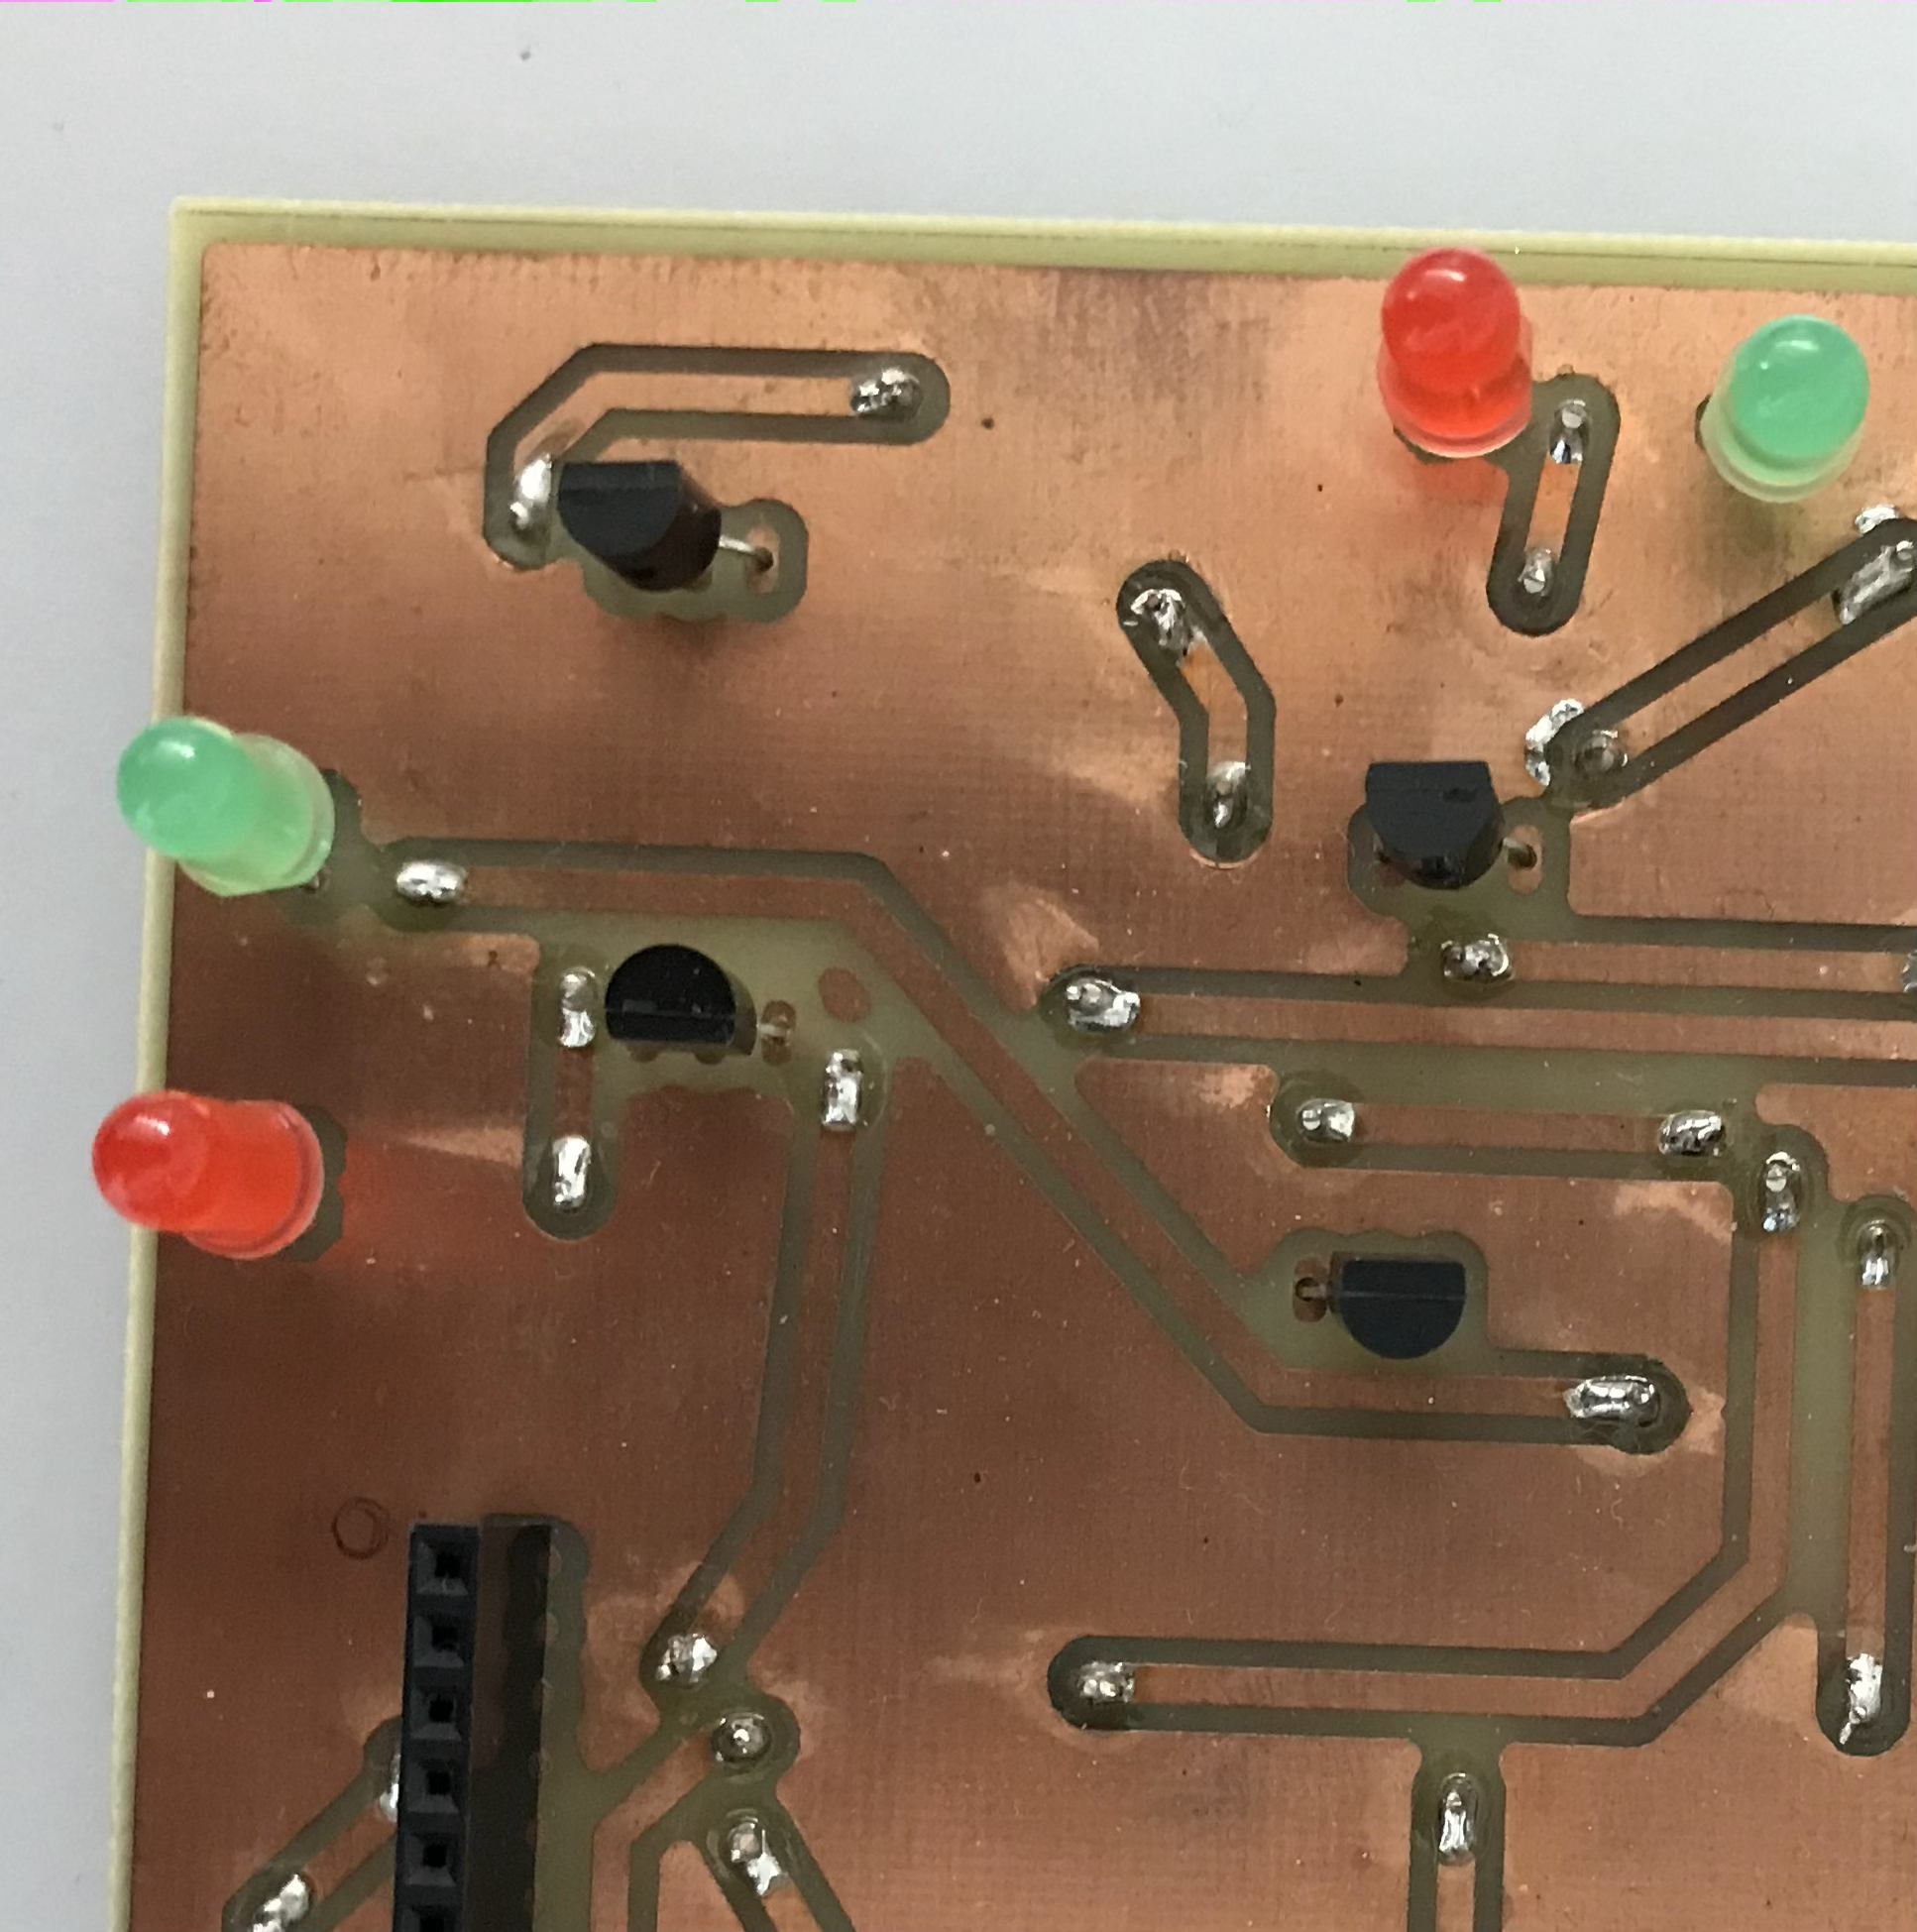LED: (84, 1084, 327, 1265), (109, 713, 341, 901), (1369, 244, 1543, 465), (1696, 306, 1880, 511)
